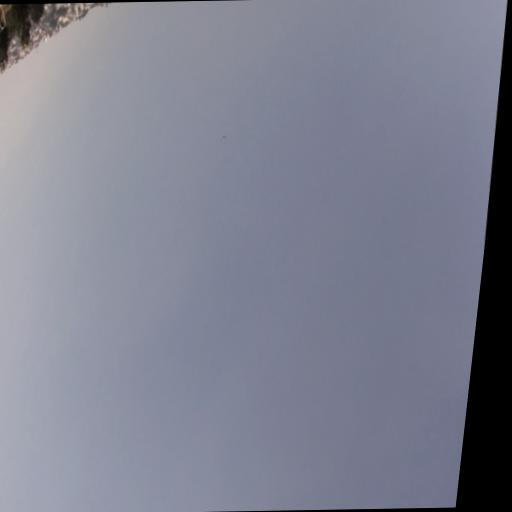drones: (220, 134, 227, 143)
